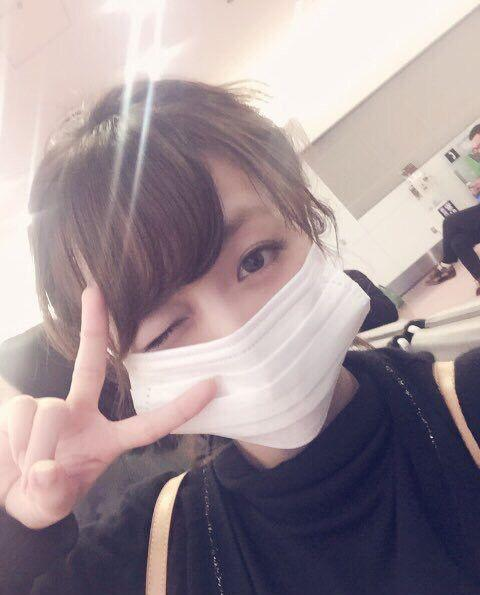OK: (94, 191, 356, 453)
